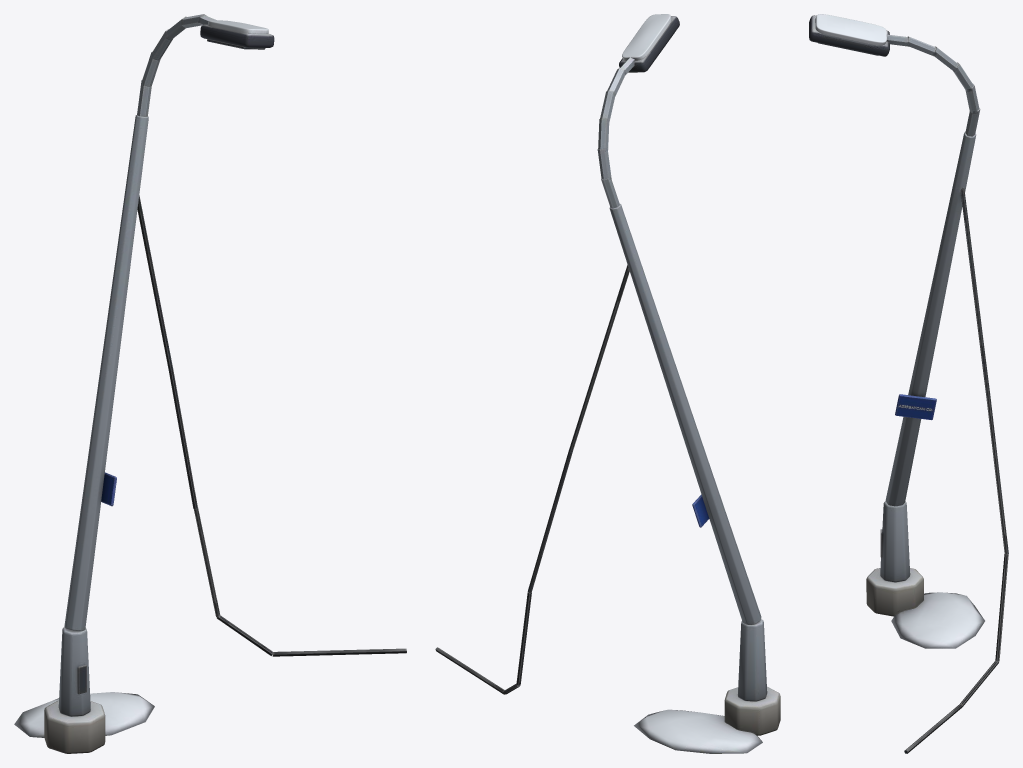
File: street_lamp_bent.glb
The picture shows the model from 3 angles, left to right: view 1: azimuth 30°, elevation 25°; view 2: azimuth 150°, elevation 25°; view 3: azimuth 270°, elevation 25°; orthographic projection. The views are drawn at different scales.
Visible parts, largest first — view 1: street_lamp_bent; view 2: street_lamp_bent; view 3: street_lamp_bent.
Boxes of the visible parts, x1,y1,x2,y2 form: street_lamp_bent: (14, 14, 406, 753); street_lamp_bent: (435, 14, 780, 753); street_lamp_bent: (809, 14, 1008, 753).
Size of the model in its own units: 4.24 by 7.85 by 2.19.
1 material, 1 textured.
